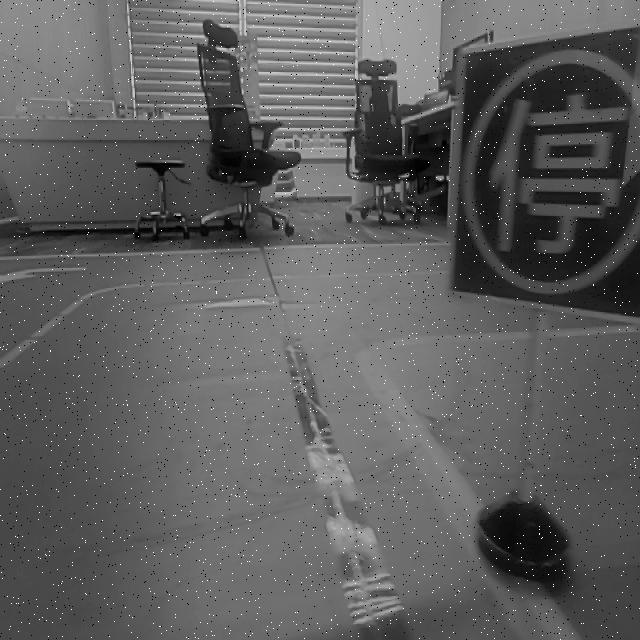left_lane: (0, 290, 92, 372)
right_lane: (358, 357, 576, 636)
